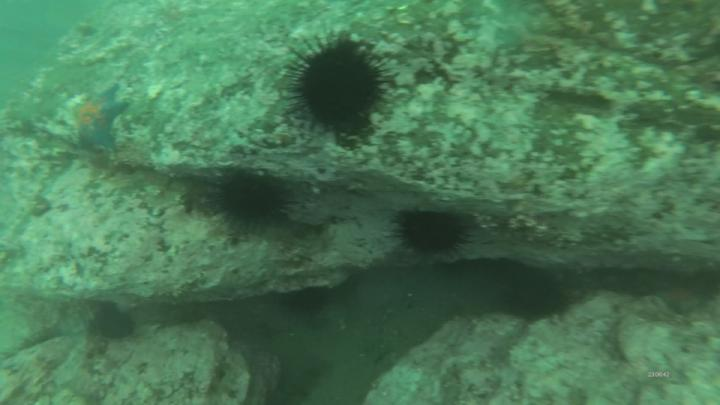echinus: (292, 37, 386, 140), (208, 163, 290, 239), (497, 264, 574, 324), (397, 207, 469, 262), (91, 301, 141, 343)
starfish: (74, 83, 132, 154)
